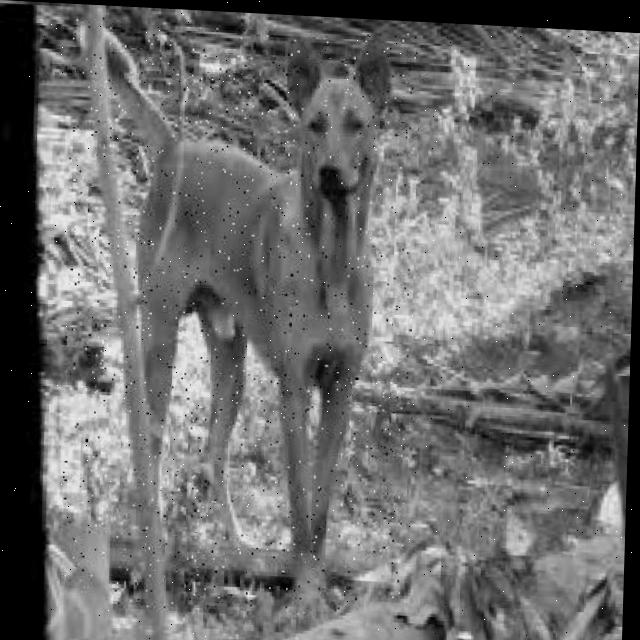Dog: (56, 15, 423, 622)
